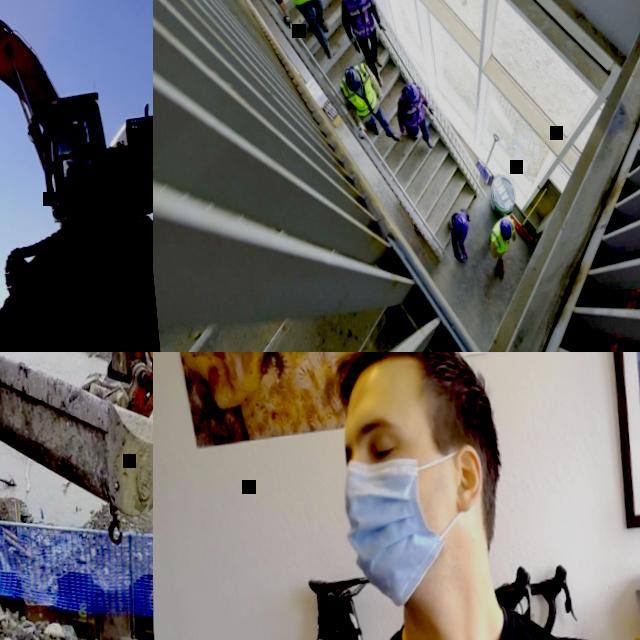Hardhat: (343, 65, 361, 93), (405, 82, 421, 106), (453, 214, 468, 236), (498, 218, 512, 240), (348, 0, 365, 9)
Mask: (342, 444, 494, 605)
NO-Hardhat: (336, 352, 493, 429)
Person: (253, 352, 640, 640), (337, 59, 401, 147), (338, 0, 390, 89), (262, 0, 333, 64), (394, 81, 438, 152), (487, 214, 519, 273), (60, 131, 89, 186), (447, 209, 474, 266)
Safety Vest: (337, 62, 377, 117), (341, 0, 375, 38), (487, 215, 516, 254), (397, 83, 423, 123)
vehicle: (0, 0, 153, 309), (0, 352, 153, 640)
